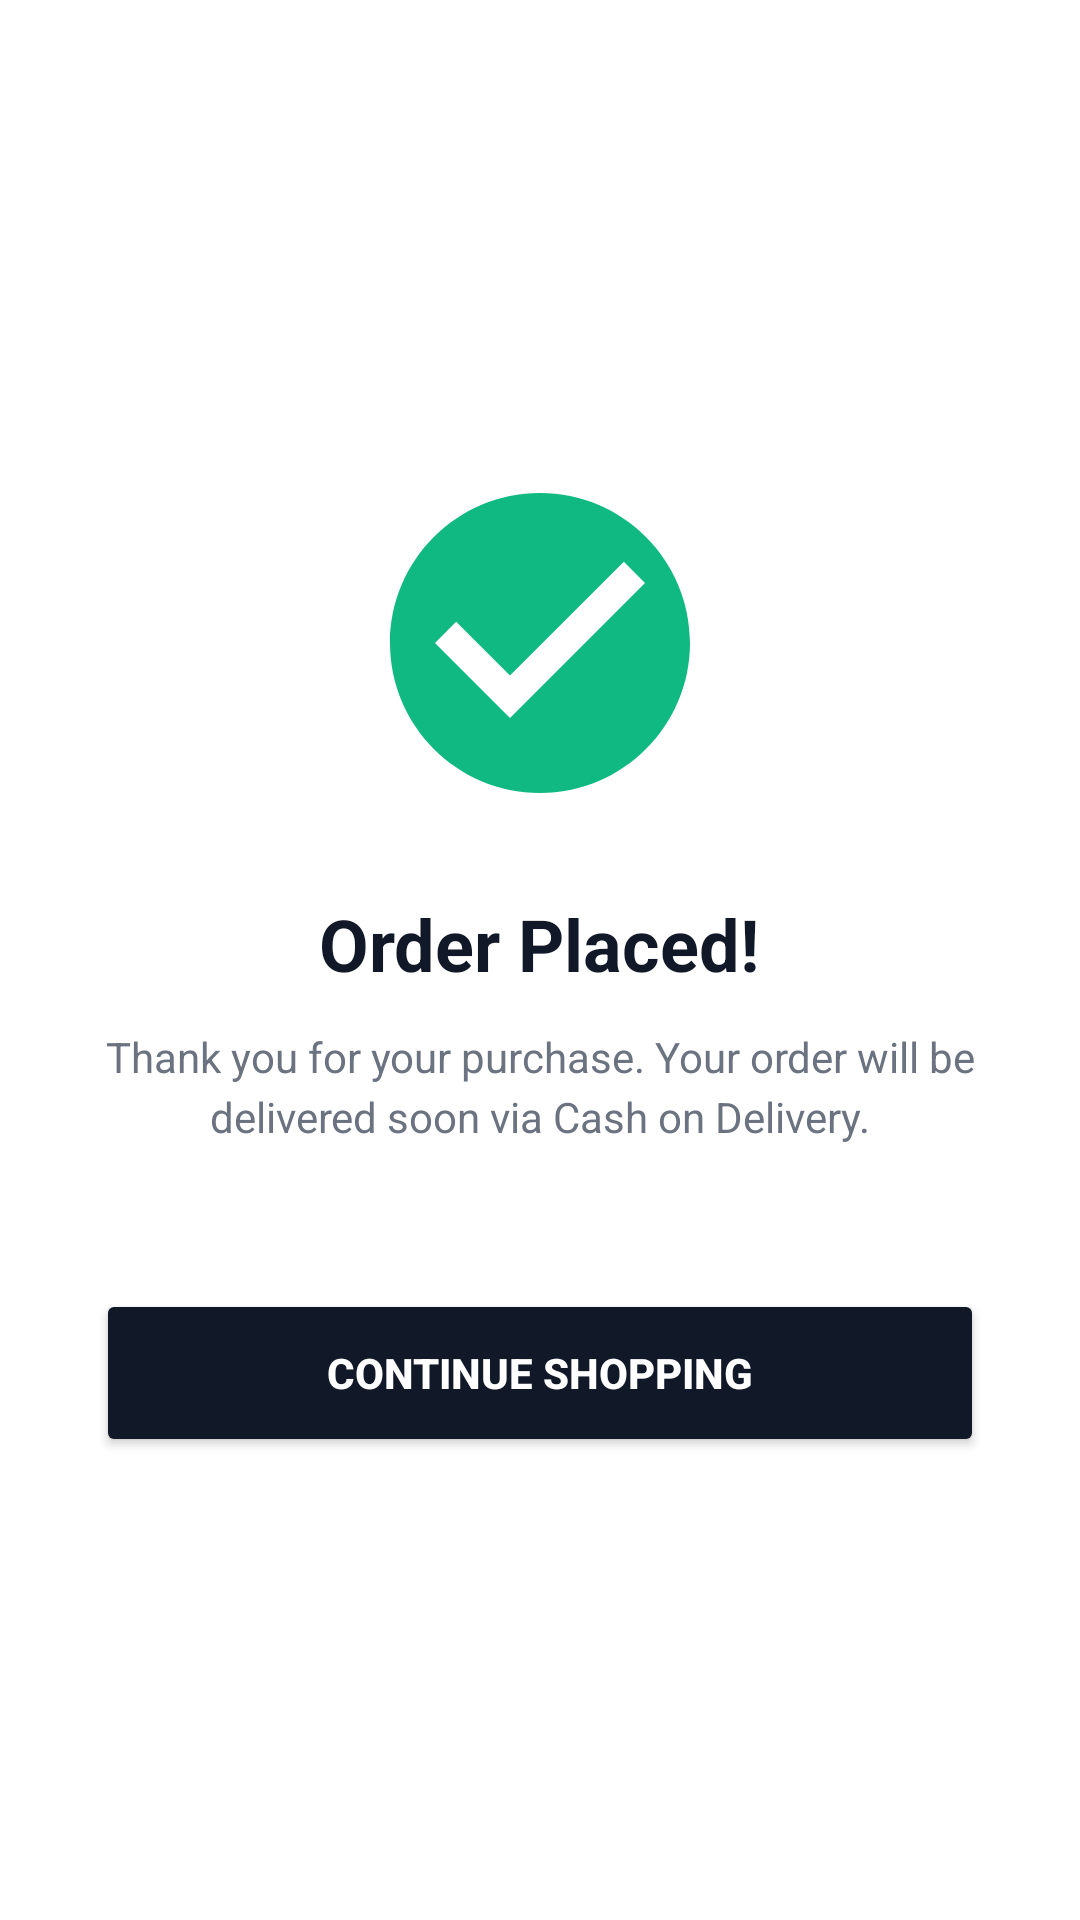

Icons on this 1080 x 1920 Android screen, each with its box as (x1, y1, x2, y2):
check circle: (390, 493, 690, 793)
